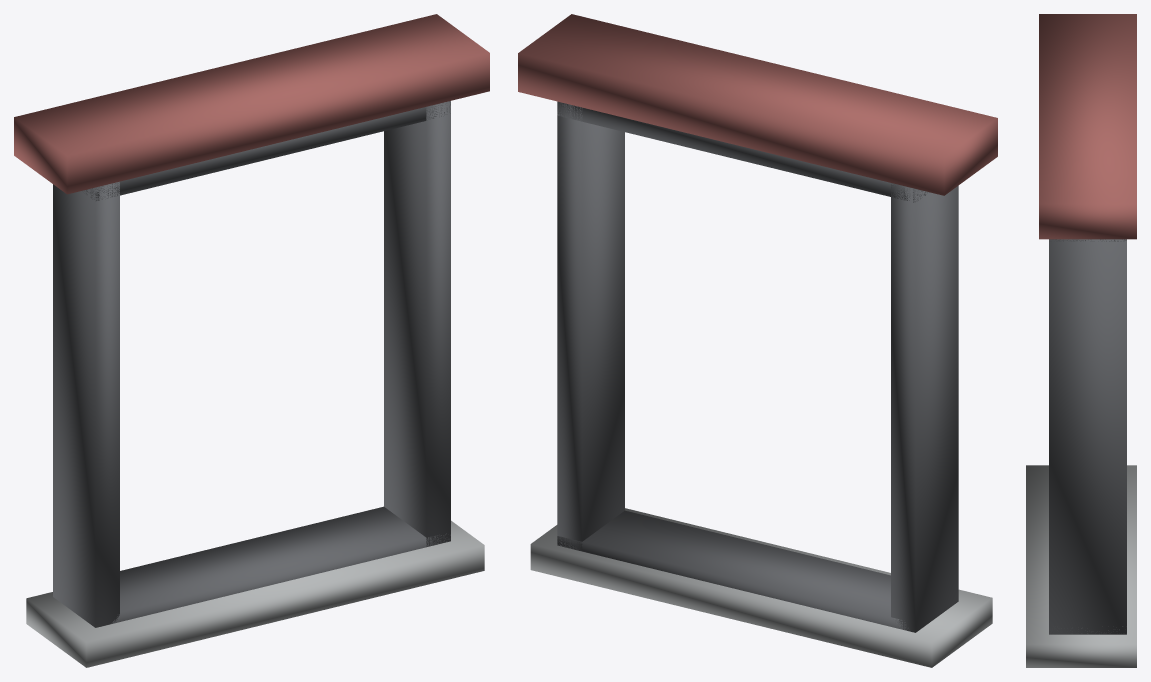
Rendered from egress_window_brick_w100_h130_s55_d24.glb.
3 views of the same model, side by side, from view 1: azimuth 30°, elevation 25°; view 2: azimuth 150°, elevation 25°; view 3: azimuth 270°, elevation 25° (orthographic). The views are drawn at different scales.
Parts seen in each view (by area): view 1: world; view 2: world; view 3: world.
Part boxes in pixels (x1=…): world: x1=14, y1=14, x2=489, y2=667; world: x1=518, y1=14, x2=997, y2=667; world: x1=1026, y1=14, x2=1136, y2=667.
Size of the model in its own units: 1.38 by 1.59 by 0.34.
